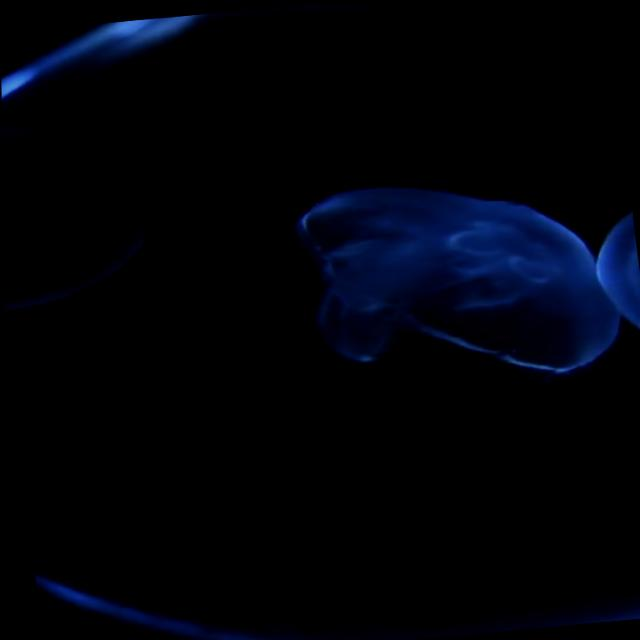Moon-jellyfish: (297, 186, 617, 377), (614, 208, 640, 327)
